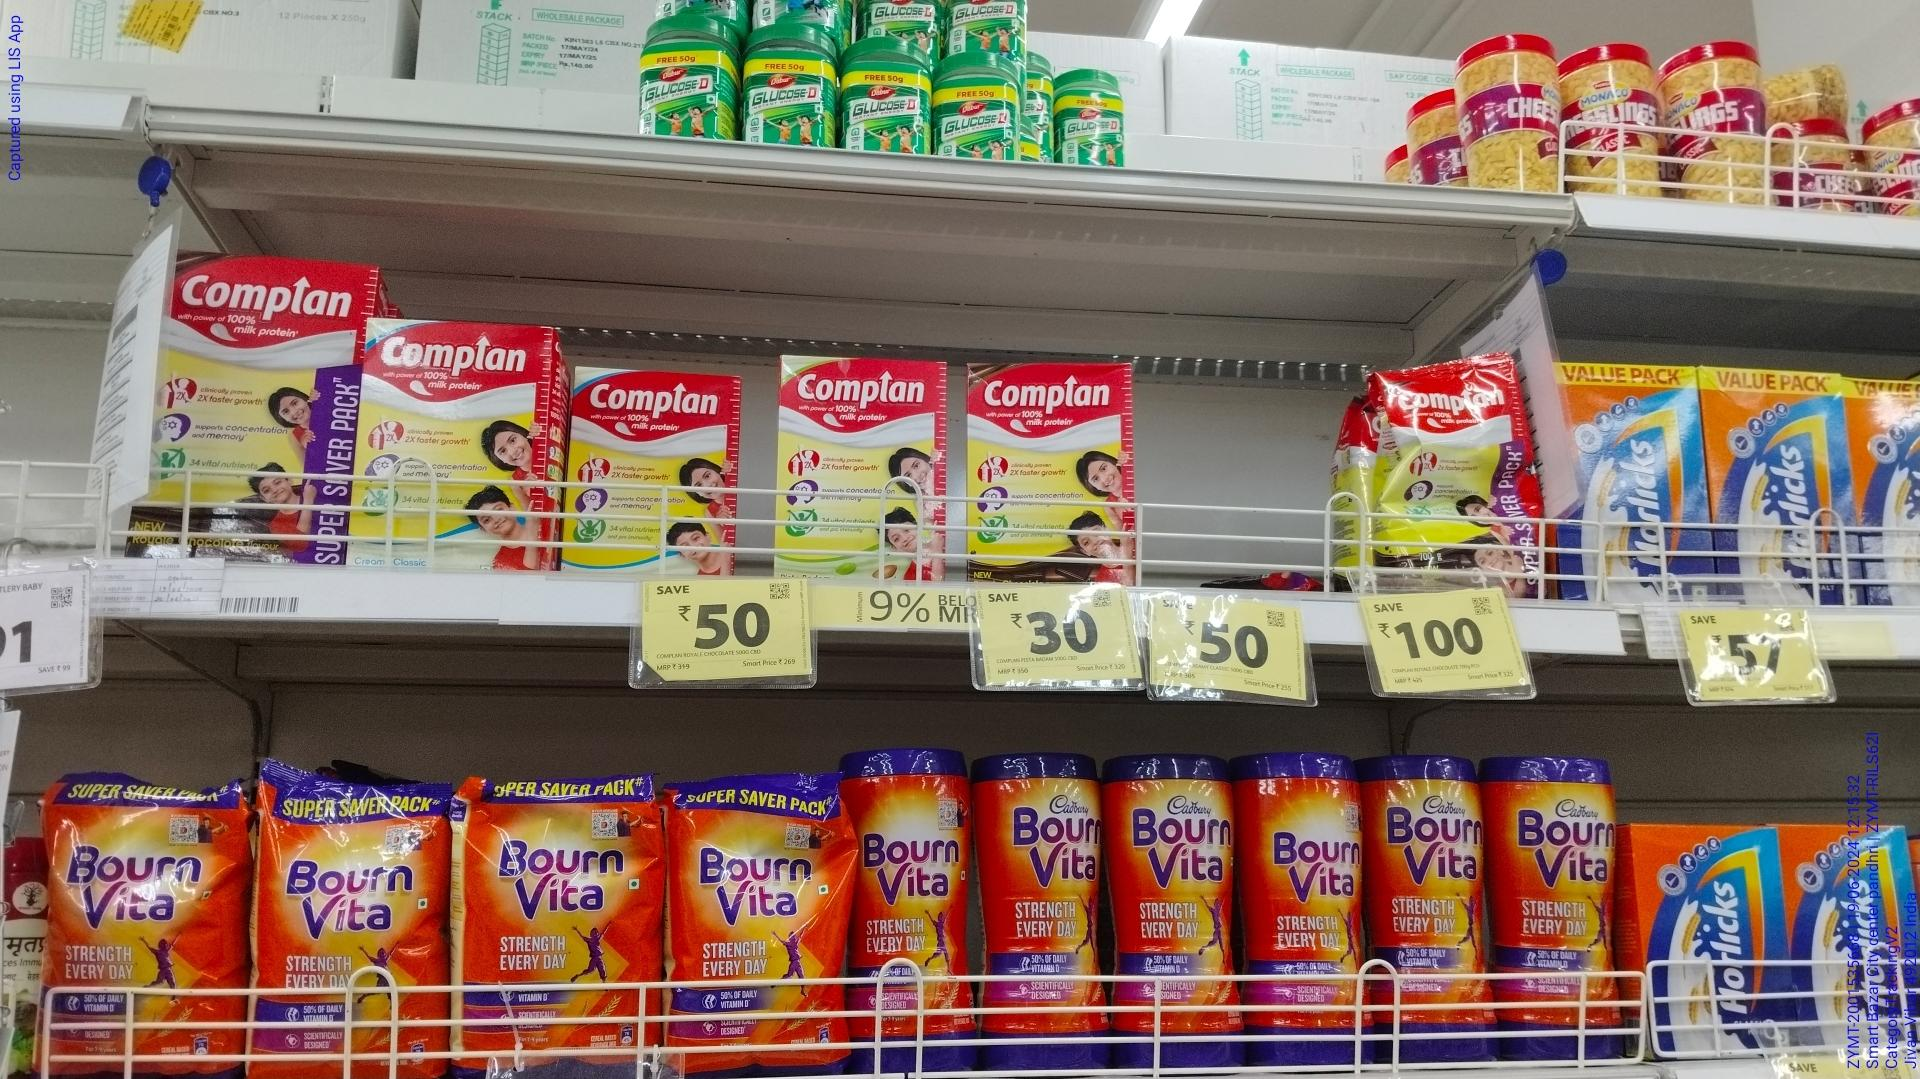BOURN_VITA_1_KG_JAR: (1114, 752, 1247, 1072), (988, 752, 1108, 1079), (1503, 740, 1622, 1067), (856, 753, 975, 1079), (1377, 752, 1494, 1062), (1259, 755, 1364, 1071)
BOURN_VITA_1_KG_POUCH: (452, 772, 653, 1079), (46, 766, 240, 1079), (258, 758, 440, 1079), (666, 772, 843, 1078)
COMPLAN_PISTA_BADAM_500_GMS_PACK: (781, 355, 949, 583)
